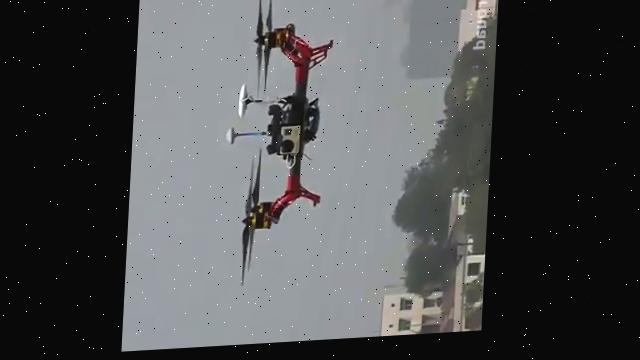drone: (218, 0, 338, 291)
